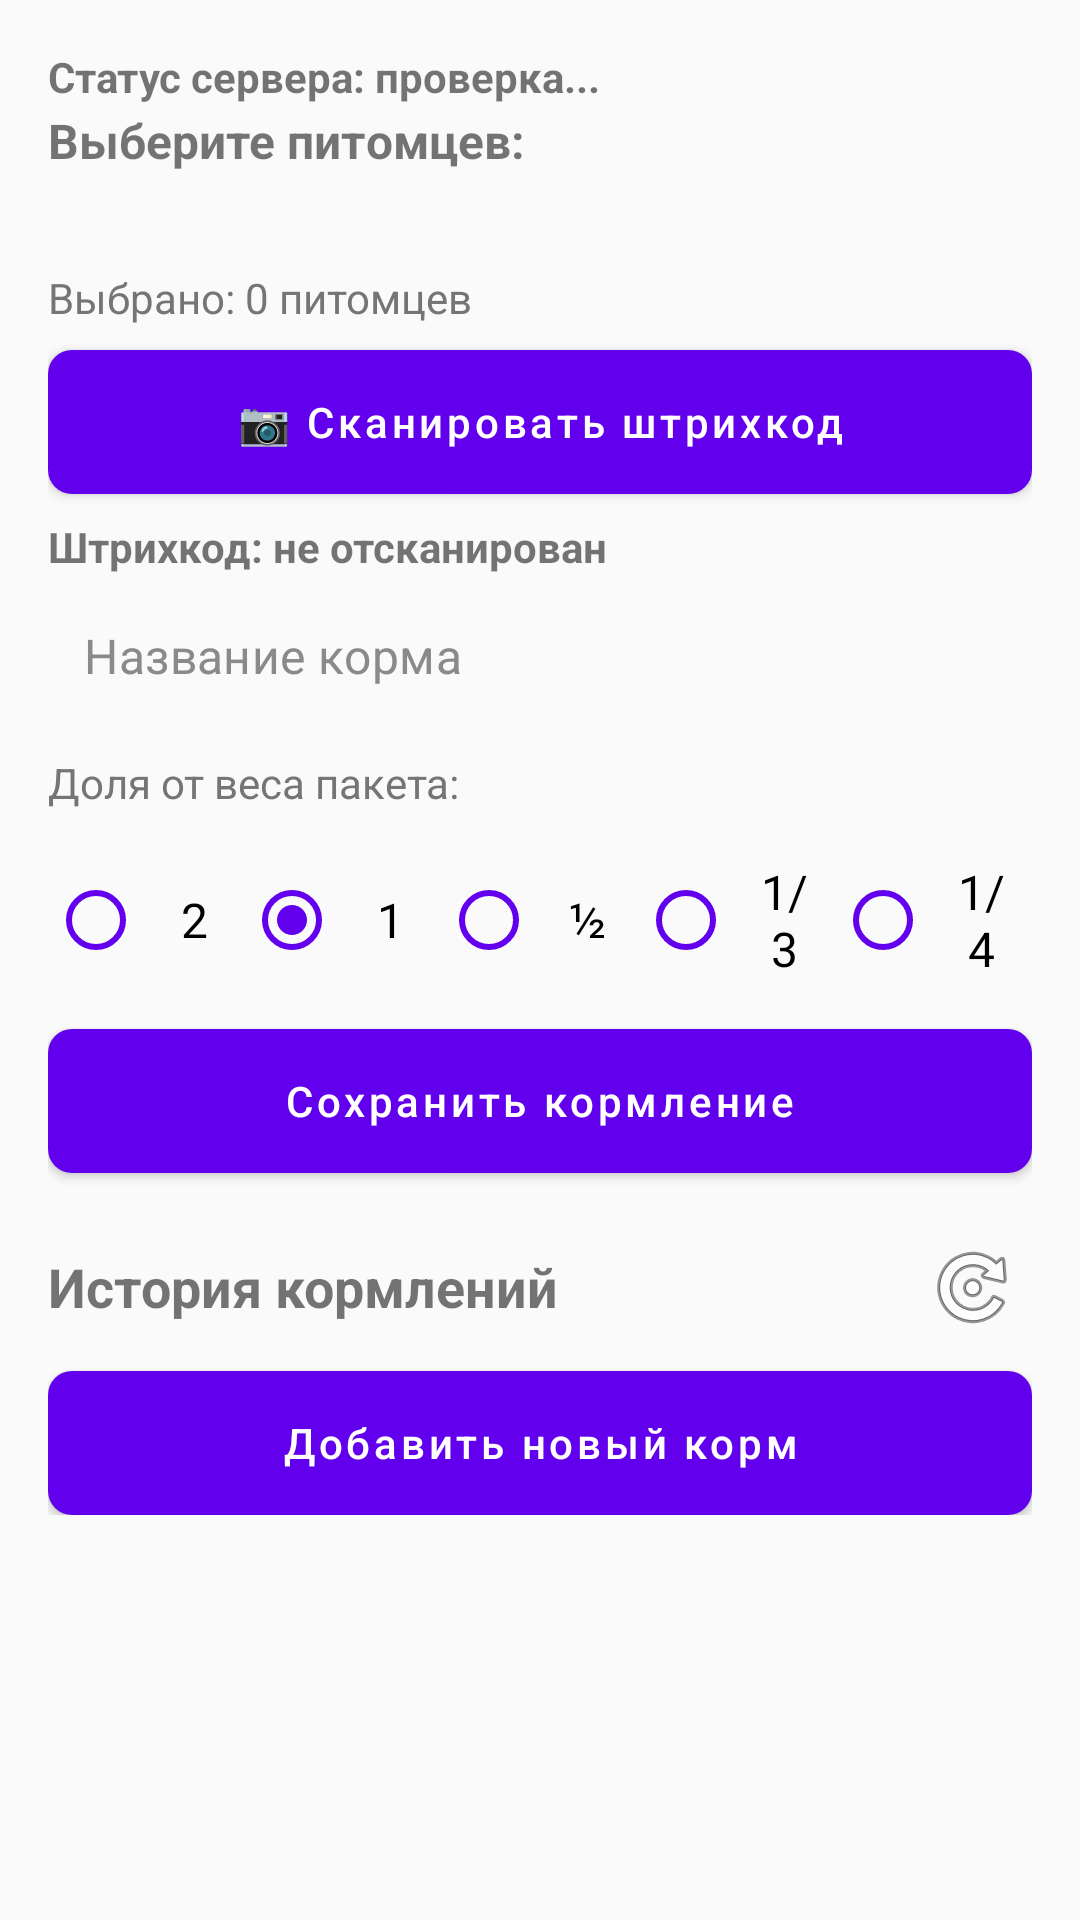

Icon click points for this 1080px×1920px phone screenshot, format [x,y]:
Обновить: [972,1287]
